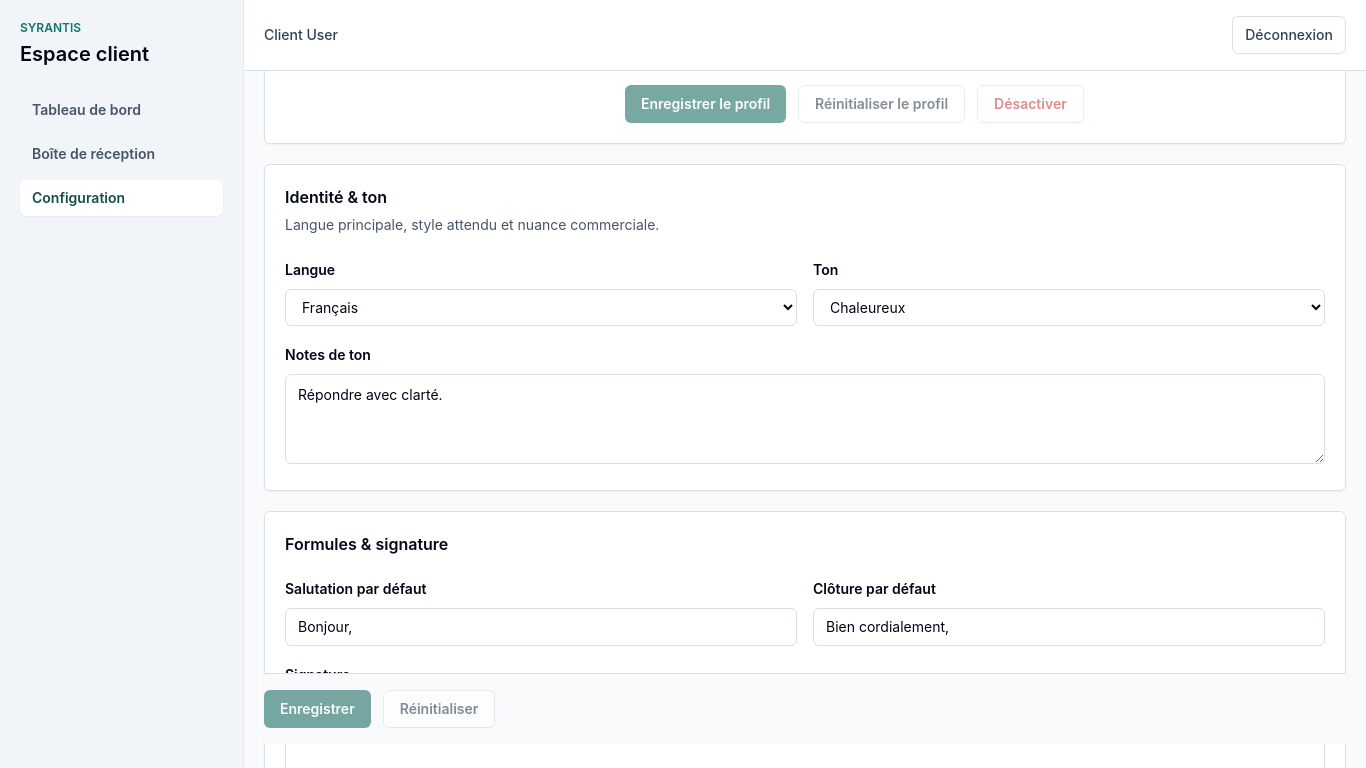
Test: admin app › keeps save disabled until edits and reset restores loaded values
The image size is (1366, 768).
(page scrolled)
Check: the button "Enregistrer" is disabled, box [264, 690, 371, 728]
Replace the text in the text box labelled "Notes de ton" with "Répondre très simplement." at x=805, y=419, box [285, 374, 1325, 464]
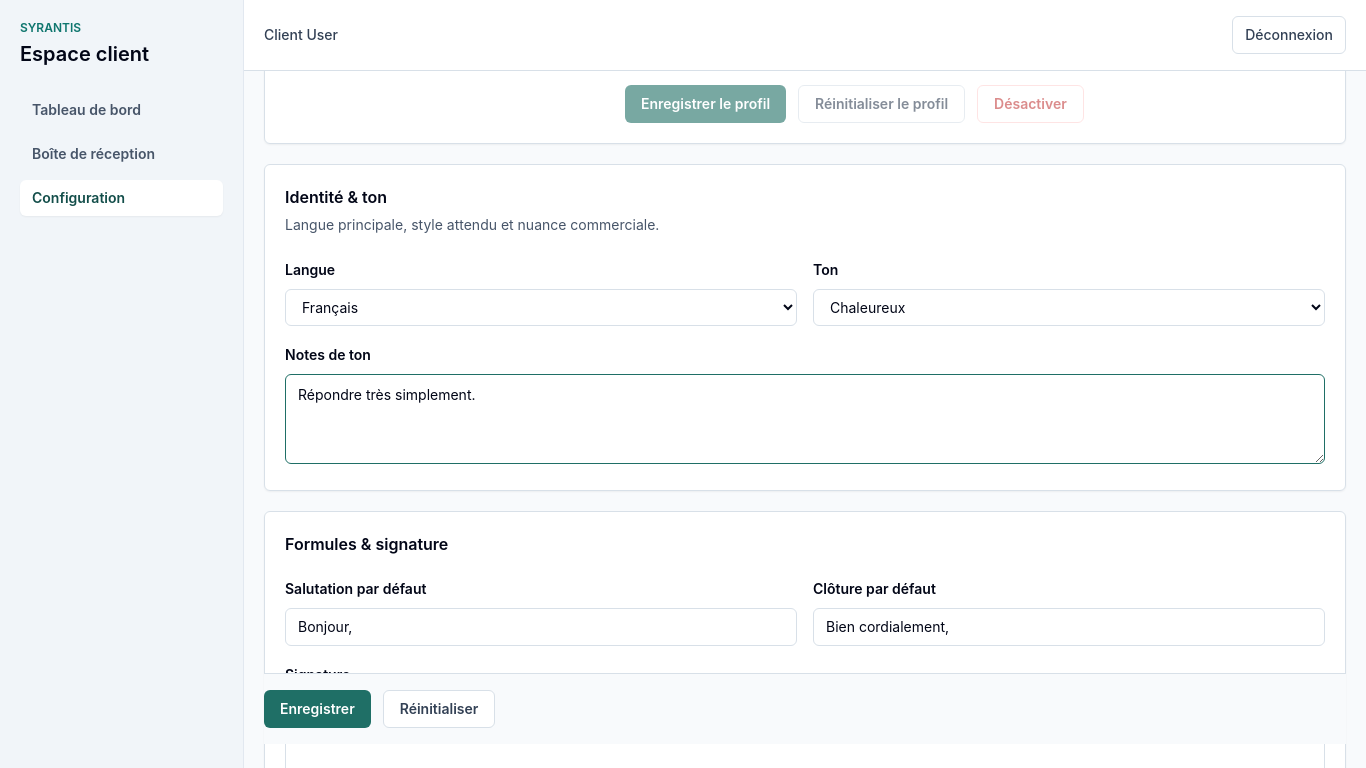
Check: the button "Enregistrer" is enabled, box [264, 690, 371, 728]
Check: the button "Réinitialiser" is enabled
Click the button "Réinitialiser" at x=439, y=709, box [383, 690, 495, 728]
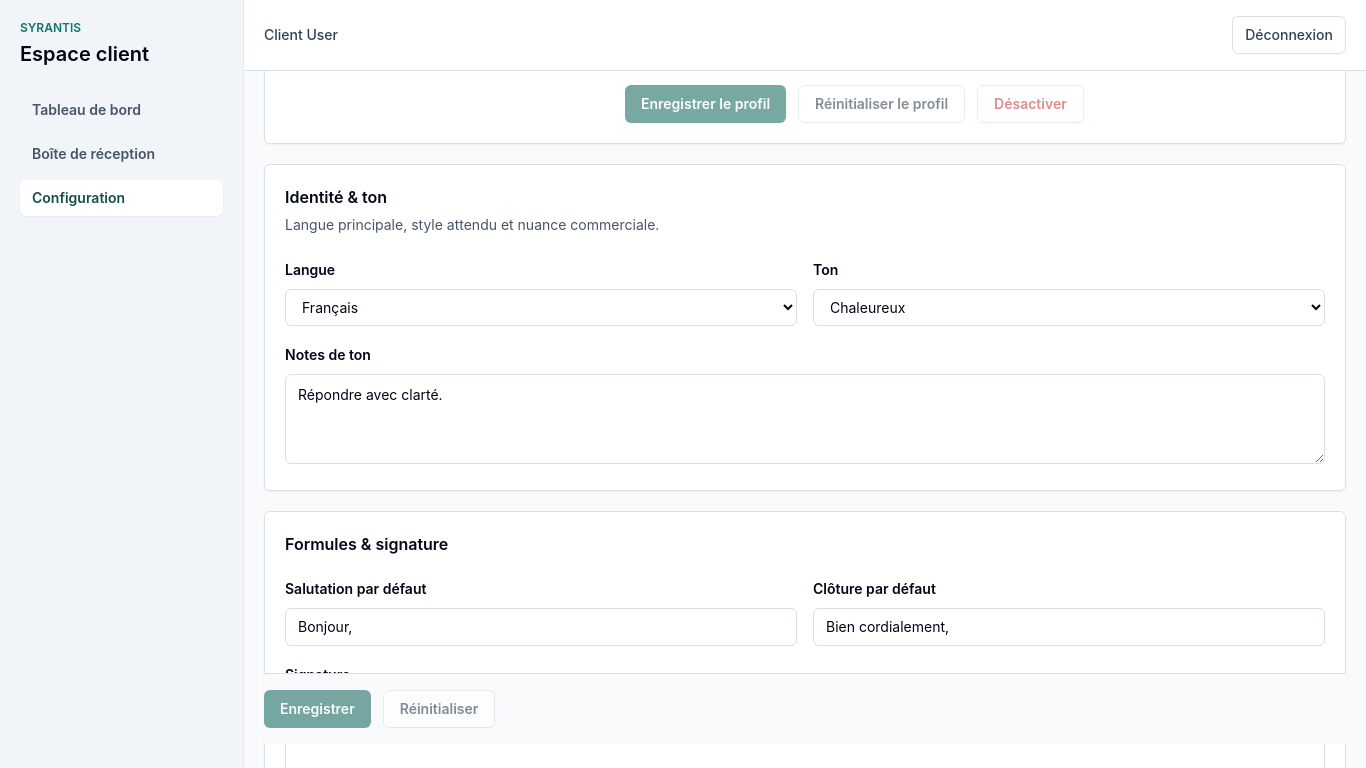
Check: the text box labelled "Notes de ton" holds "Répondre avec clarté.", box [285, 374, 1325, 464]
Check: the button "Enregistrer" is disabled, box [264, 690, 371, 728]
